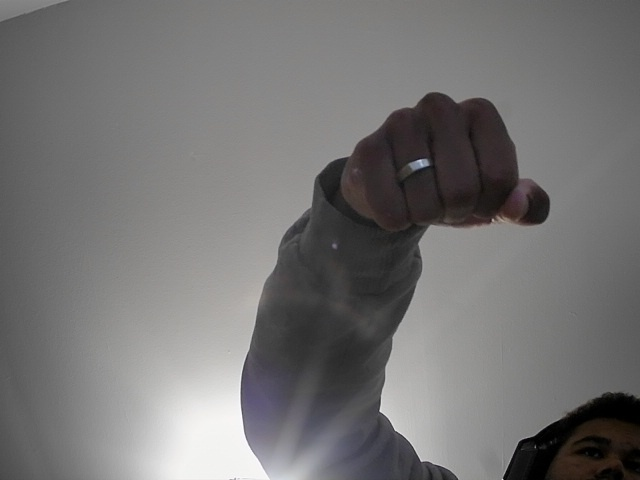Yes: (253, 82, 548, 258)
